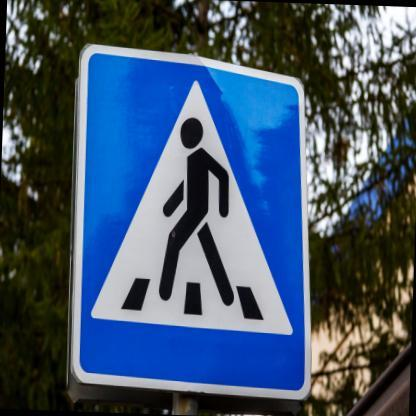road_sign: (68, 45, 310, 404)
